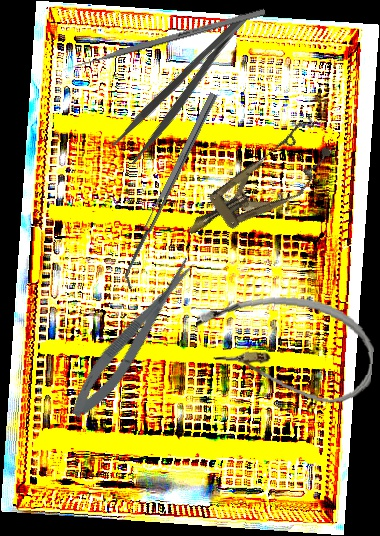Cannula: (190, 289, 378, 408)
Dressing Forceps: (109, 10, 263, 166)
Micro Scissor: (61, 252, 207, 426)
Pusher: (62, 8, 266, 73)
Spatula Surgical: (117, 92, 225, 290)
Speculum: (171, 114, 344, 258)
